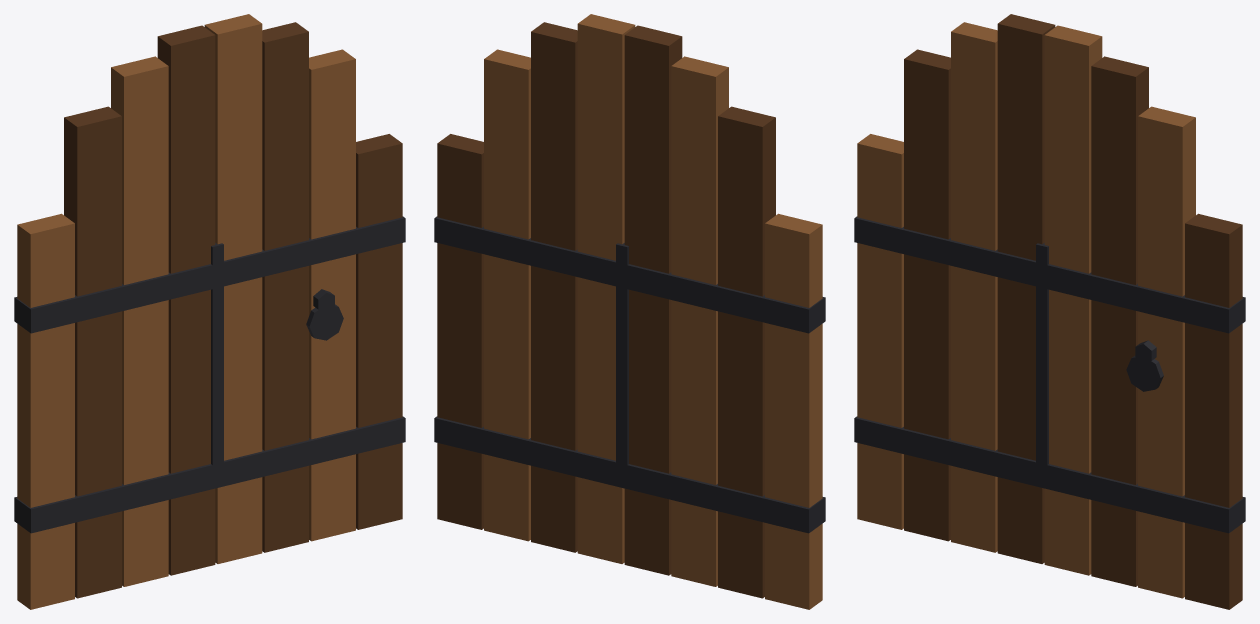
File: Door.fbx
The picture shows the model from 3 angles, left to right: view 1: azimuth 30°, elevation 25°; view 2: azimuth 150°, elevation 25°; view 3: azimuth 330°, elevation 25°; orthographic projection.
Visible parts, largest first — view 1: Door; view 2: Door; view 3: Door.
Part boxes in pixels (x1,y1,x2,y2): Door: (14,14,405,609); Door: (434,14,825,609); Door: (854,14,1245,609).
Size of the model in its own units: 1.96 by 2.65 by 0.18.
